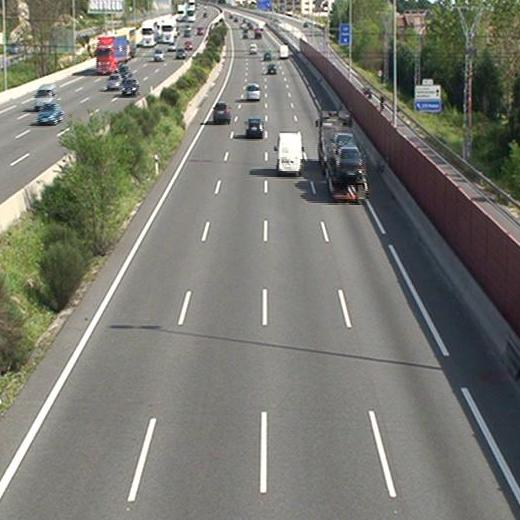car: (336, 148, 363, 176), (246, 119, 264, 138), (213, 103, 230, 121), (245, 83, 260, 100), (265, 63, 277, 76)
truck: (318, 111, 368, 201)
van: (278, 132, 302, 173), (279, 44, 289, 60)
